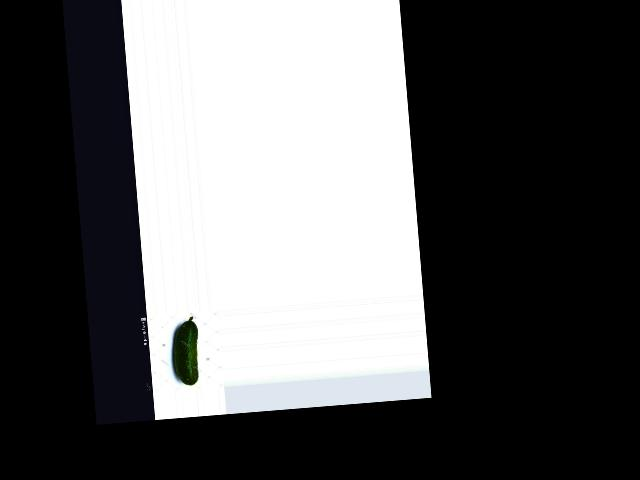cucumber: (170, 316, 202, 387)
